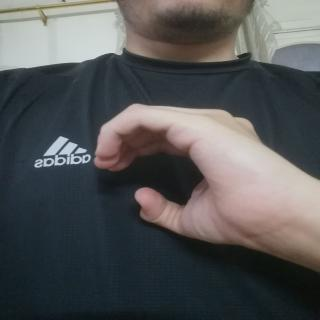JEEM: (91, 89, 269, 253)
